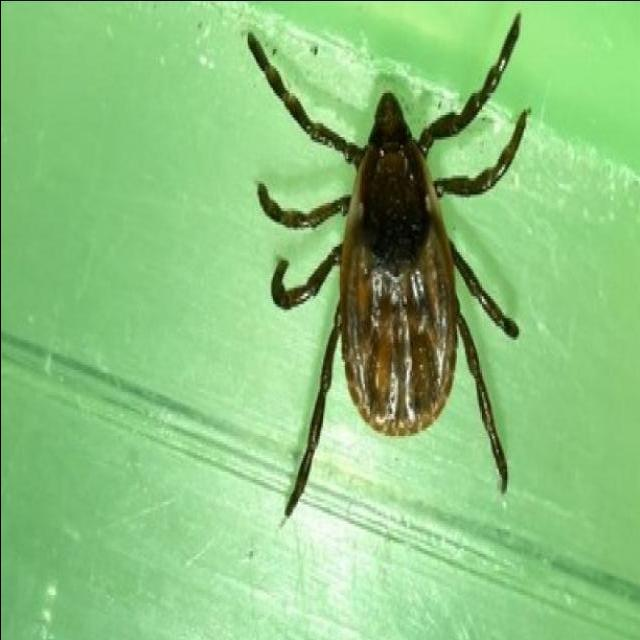Rhipicephalus Sanguineus-F: (245, 15, 531, 520)
